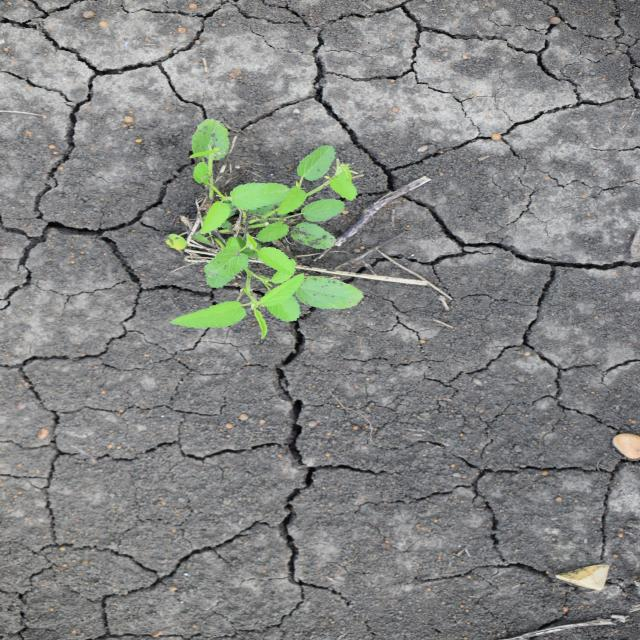PricklySida: (162, 118, 368, 341)
